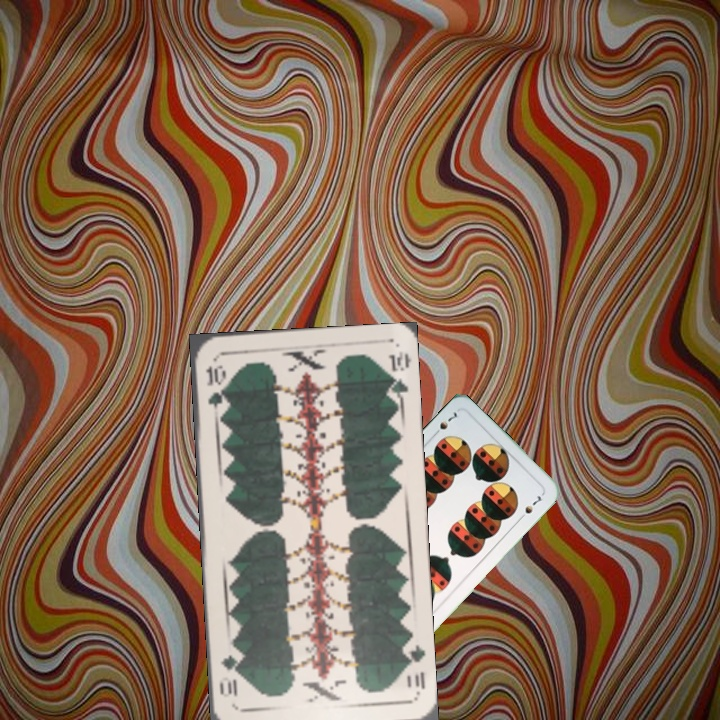G10: (399, 637, 428, 696), (202, 360, 226, 417)
S7: (428, 407, 460, 440)
